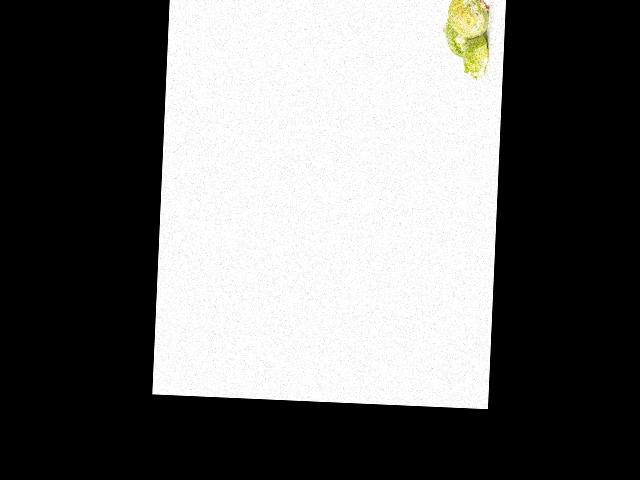lettuce: (440, 14, 472, 61)
